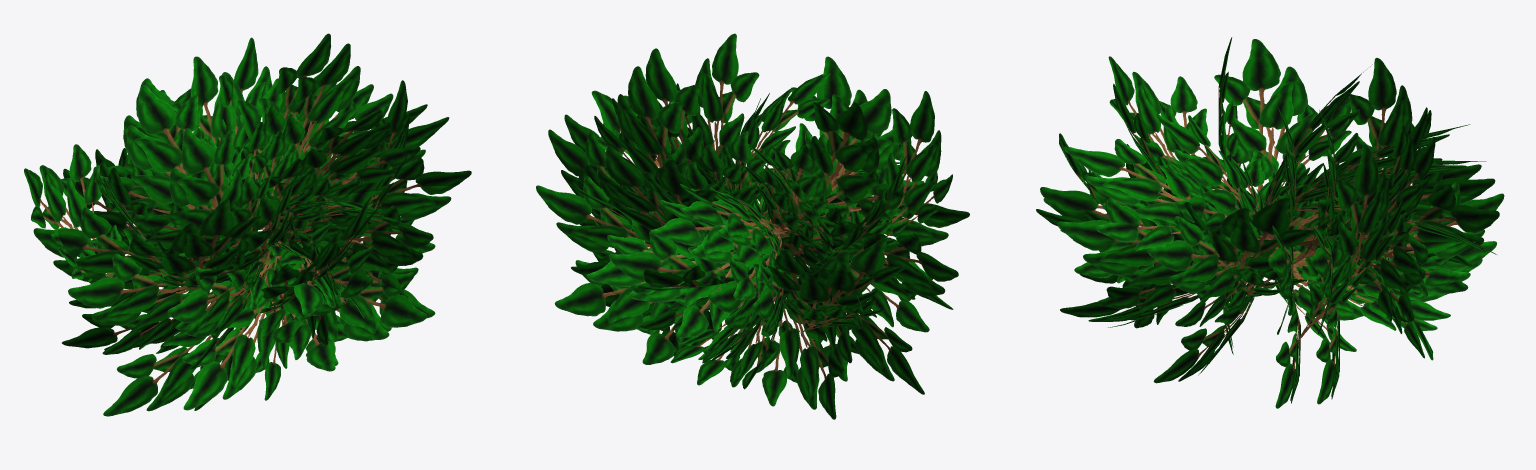
File: kITCHEN1.fbx
The picture shows the model from 3 angles, left to right: view 1: azimuth 30°, elevation 25°; view 2: azimuth 150°, elevation 25°; view 3: azimuth 270°, elevation 25°; orthographic projection. The views are drawn at different scales.
Parts seen in each view (by area): view 1: Bush Branch 1.005; view 2: Bush Branch 1.005; view 3: Bush Branch 1.005.
Boxes of the visible parts, <box> form: Bush Branch 1.005: <box>24,33,471,416</box>; Bush Branch 1.005: <box>536,33,969,419</box>; Bush Branch 1.005: <box>1036,37,1504,408</box>.
Bounding box in the file's own units: 6947 × 5990 × 6594.
